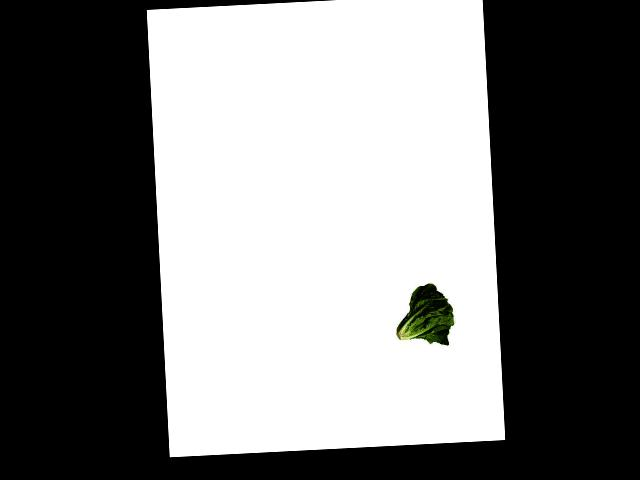lettuce: (390, 281, 457, 349)
